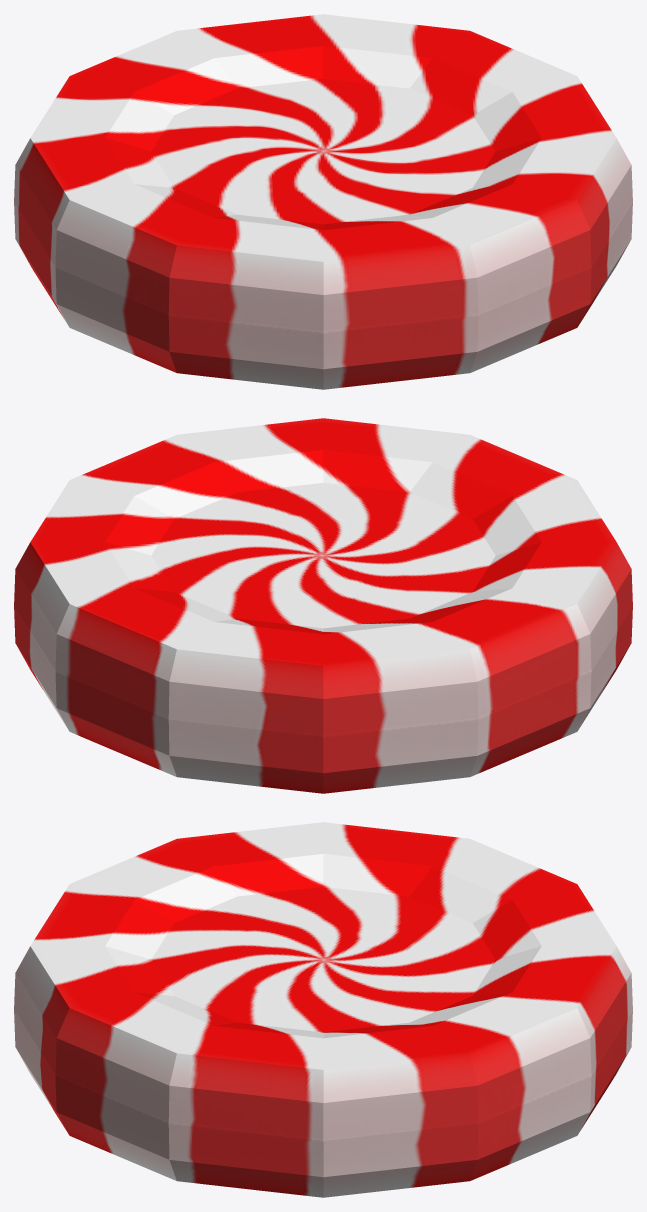
Rendered from Candy.obj.
3 views of the same model, one above another, from view 1: azimuth 30°, elevation 25°; view 2: azimuth 150°, elevation 25°; view 3: azimuth 270°, elevation 25° (orthographic).
Bounding box in the file's own units: 1 × 0.2278 × 1.
1 material, 1 textured.
